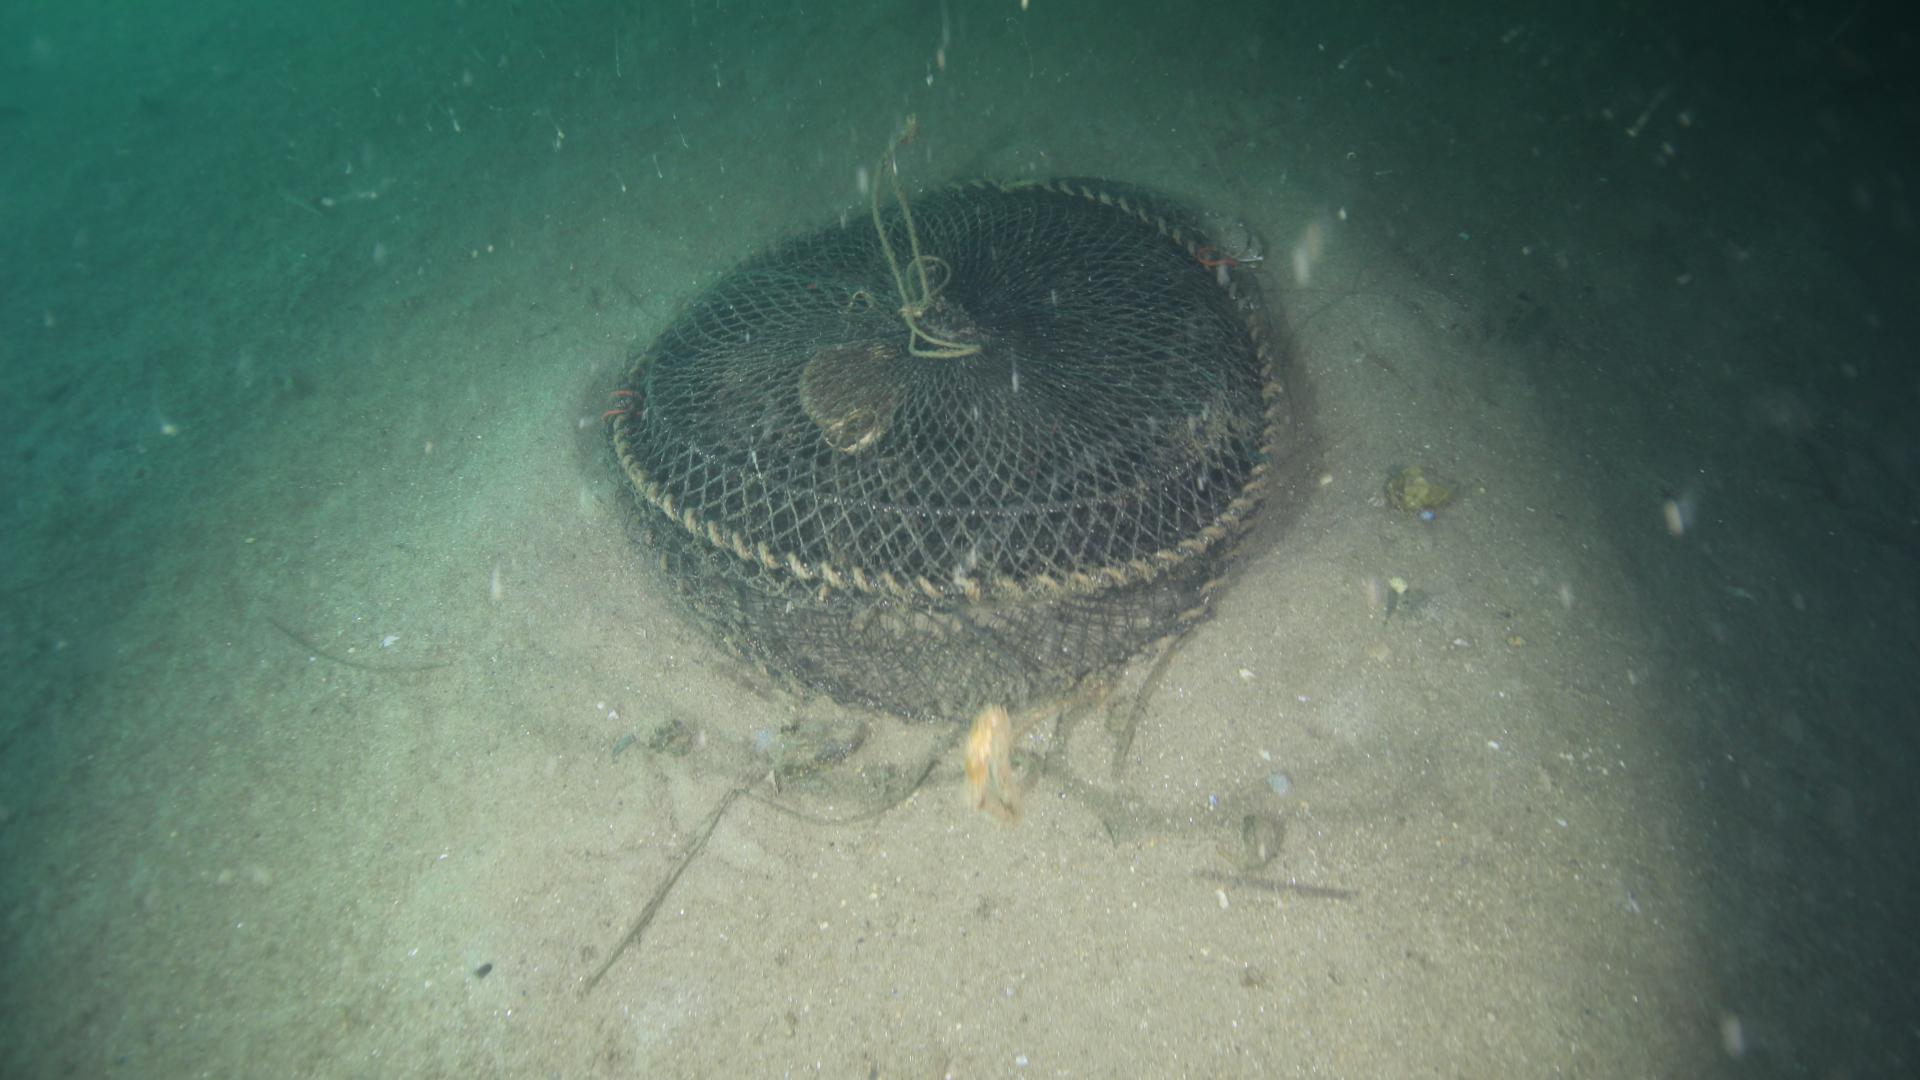bundle of ropes: (862, 0, 986, 364)
circular fish trap: (603, 173, 1292, 731)
